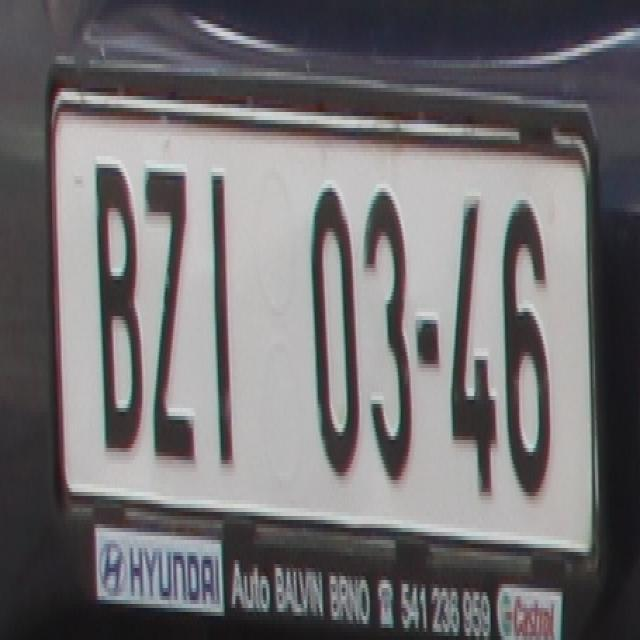0: (306, 176, 361, 488)
3: (363, 180, 411, 492)
4: (446, 184, 498, 508)
6: (498, 192, 549, 500)
B: (95, 156, 146, 460)
Z: (144, 152, 202, 472)
